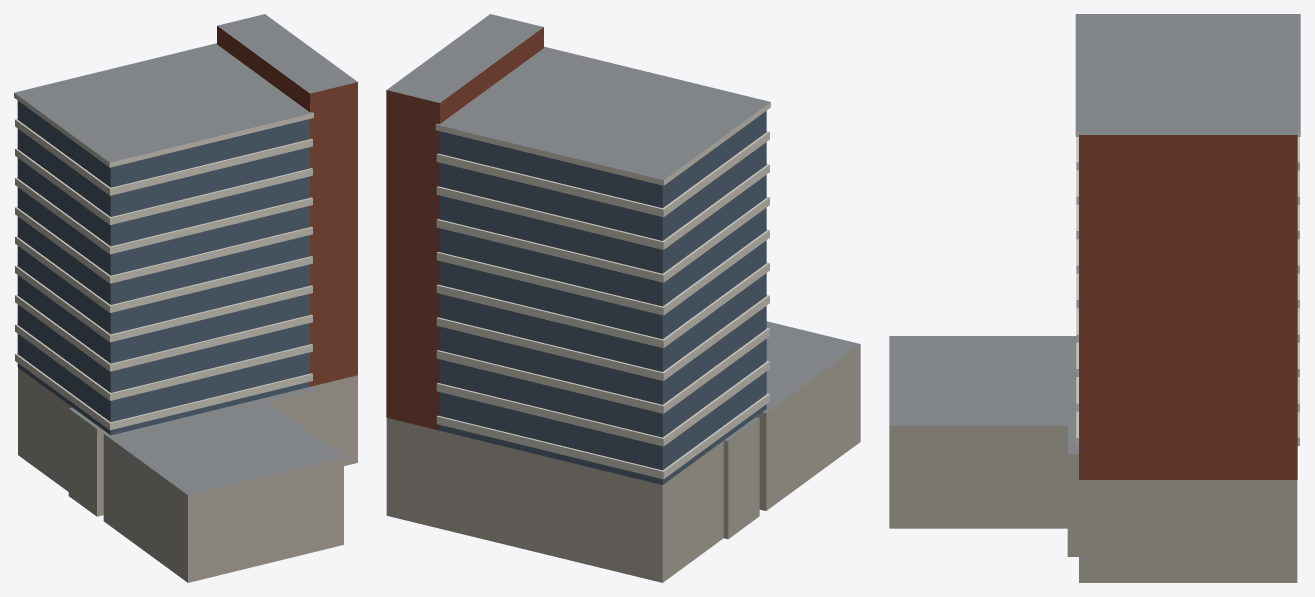
Rendered from washington_federal_bank.glb.
3 views of the same model, side by side, from view 1: azimuth 30°, elevation 25°; view 2: azimuth 150°, elevation 25°; view 3: azimuth 270°, elevation 25° (orthographic). The views are drawn at different scales.
Parts seen in each view (by area): view 1: Washington_Federal_Bank; view 2: Washington_Federal_Bank; view 3: Washington_Federal_Bank.
Part boxes in pixels (bbox=[...]): Washington_Federal_Bank: bbox=[14, 14, 357, 582]; Washington_Federal_Bank: bbox=[386, 14, 860, 582]; Washington_Federal_Bank: bbox=[889, 14, 1300, 582].
Size of the model in its own units: 41.94 by 60.8 by 50.63.
